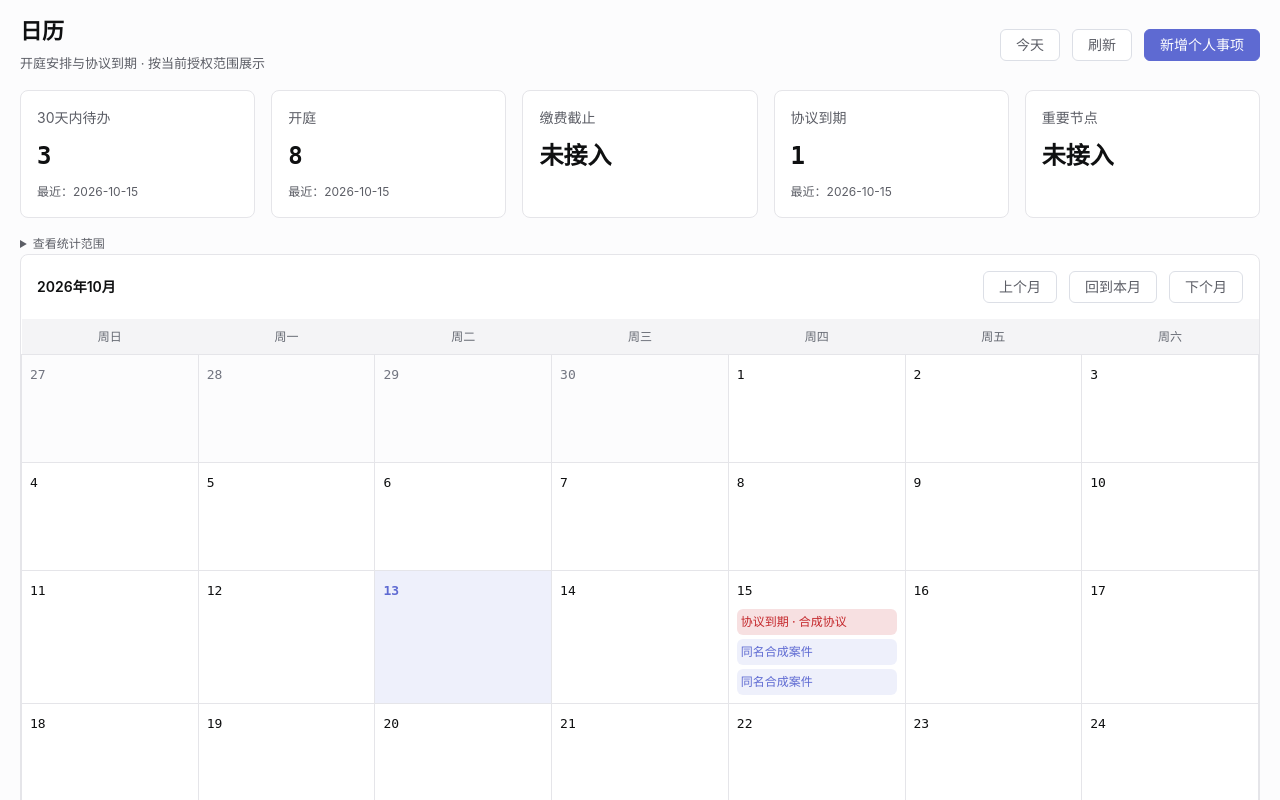
CalendarPage › uses only official month data and stable metrics with missing-source labels and server today
Check: the text "8" below "30天内待办" is shown, box [288,142,303,170]
Check: the 1st text "未接入" is shown, box [539,142,611,170]
Step 1. Hover over the 1st button "同名合成案件" → (817, 652), box [737,639,896,665]
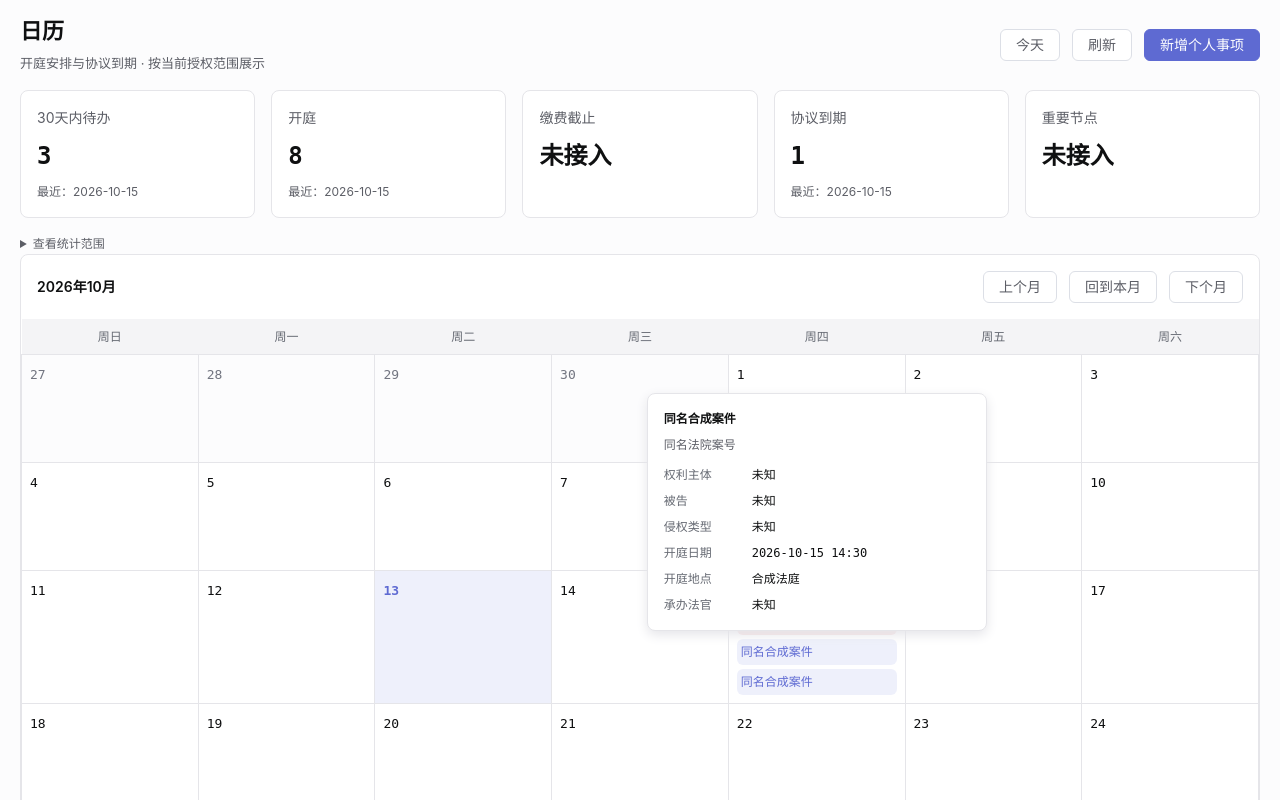
Check: the tooltip shows "合成法庭", box [752,571,800,586]
Check: the tooltip shows "未知", box [752,467,776,482]
